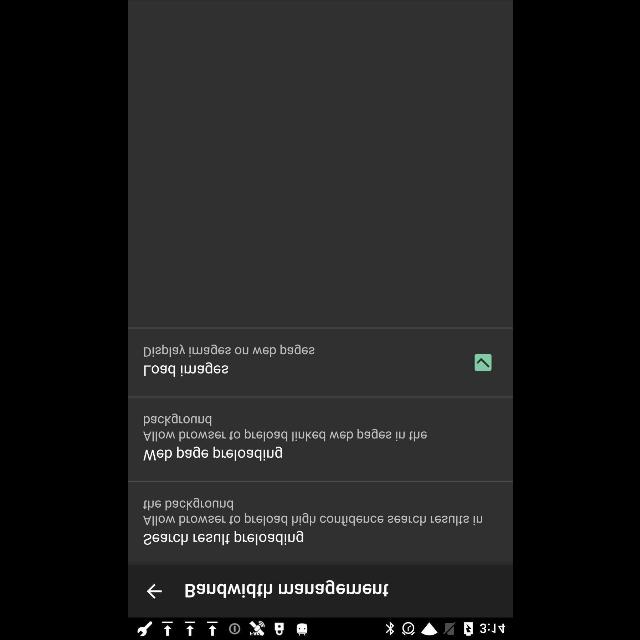checkbox: (474, 354, 491, 371)
icon: (146, 584, 162, 598)
text: (142, 498, 482, 526), (142, 413, 426, 441), (185, 580, 388, 598), (143, 530, 303, 546), (144, 344, 314, 358), (142, 446, 282, 462), (144, 362, 228, 376)
toolbar: (128, 566, 512, 616)
uppertaskbar: (128, 617, 512, 639)
